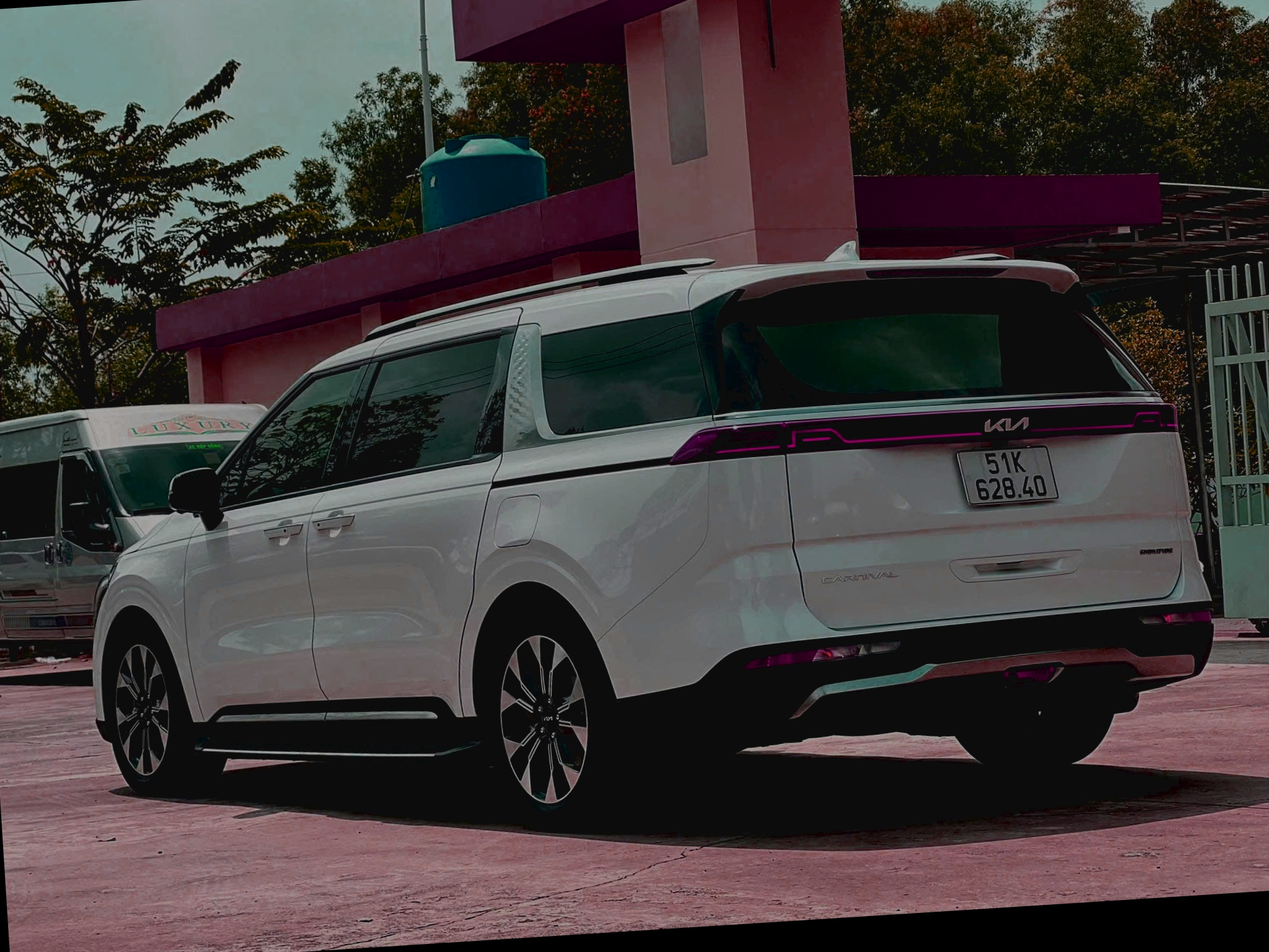Bien-so: (914, 530, 1031, 605)
